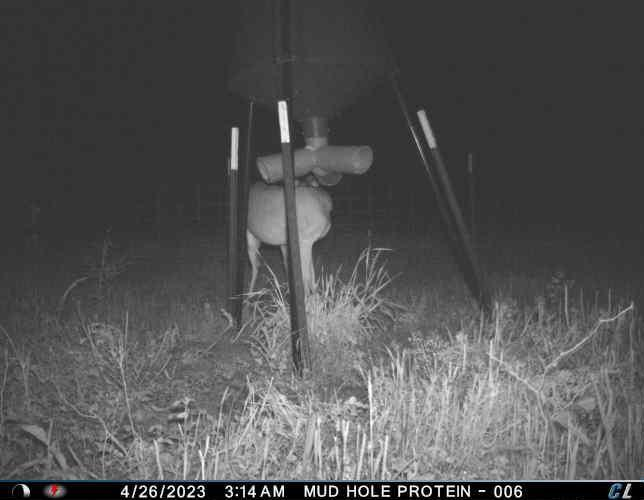Deer: (247, 177, 334, 304)
